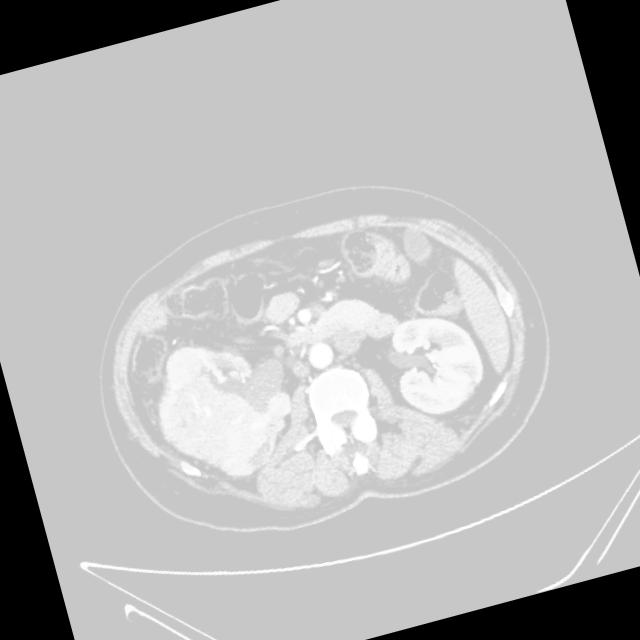TUMOR: (72, 234, 542, 496)
